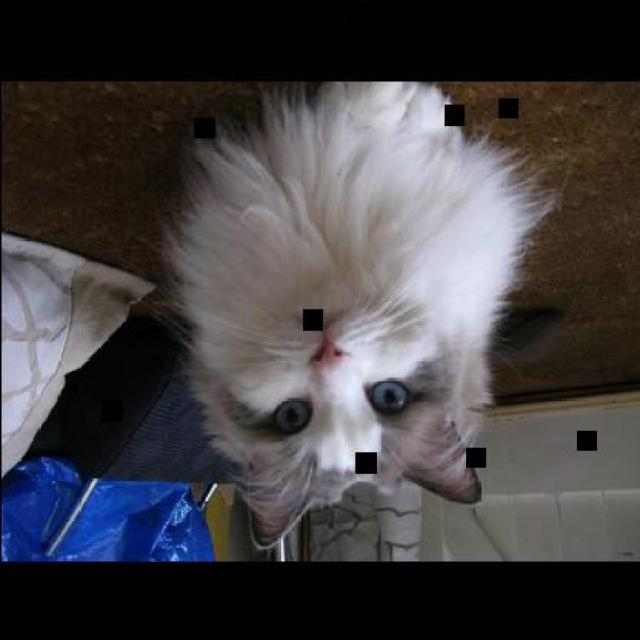unauthorized: (154, 79, 563, 546)
